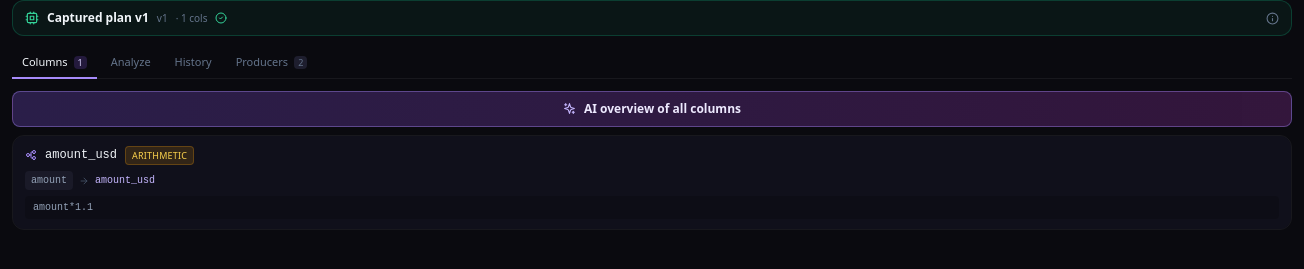
Test case: ColumnTransformationPanel › shows the Producers tab and runs the comparison
This screenshot has width=1304, height=269.
Note: Open the Producers tab — this auto-runs the comparison.
Click the tab "Producers 2": (271, 63) [226,48,317,78]
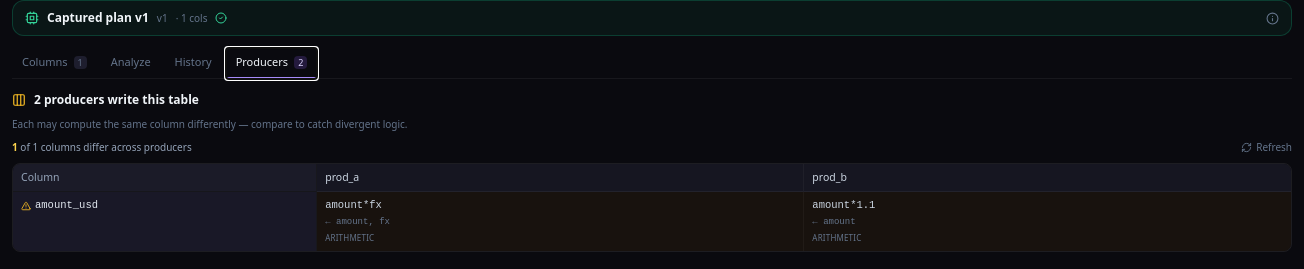
Expected: the text "2 producers write this table" is shown, [12,90,199,108]
Expected: the text "amount*fx" is shown, [325,199,382,211]
Expected: the text "1 of 1 columns differ across producers" is shown, [12,140,192,154]
